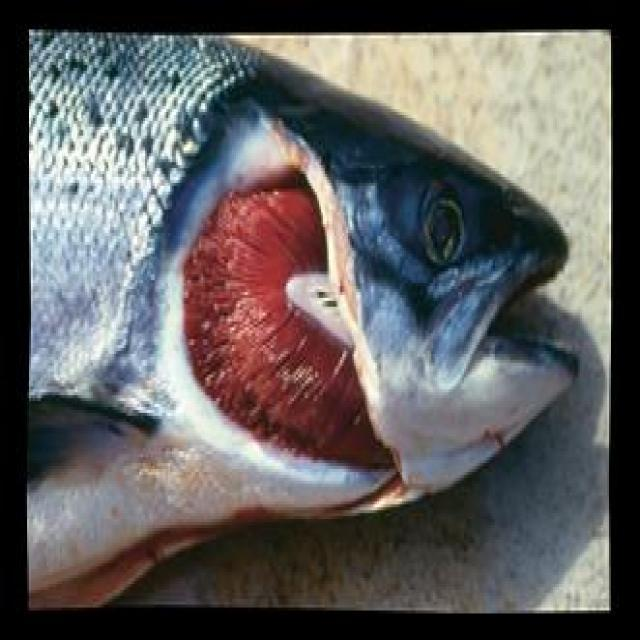Gill Disease: (127, 37, 538, 526)
